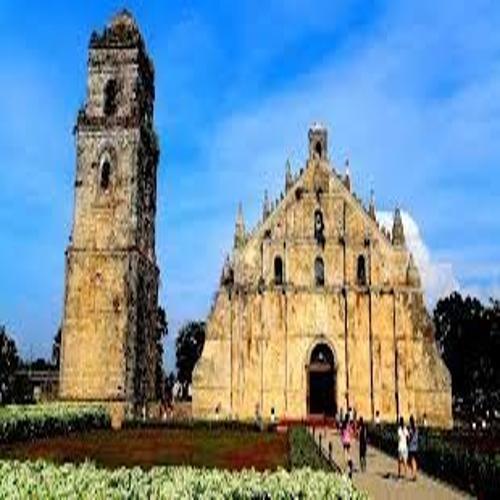Paoay Church: (52, 9, 455, 435)
